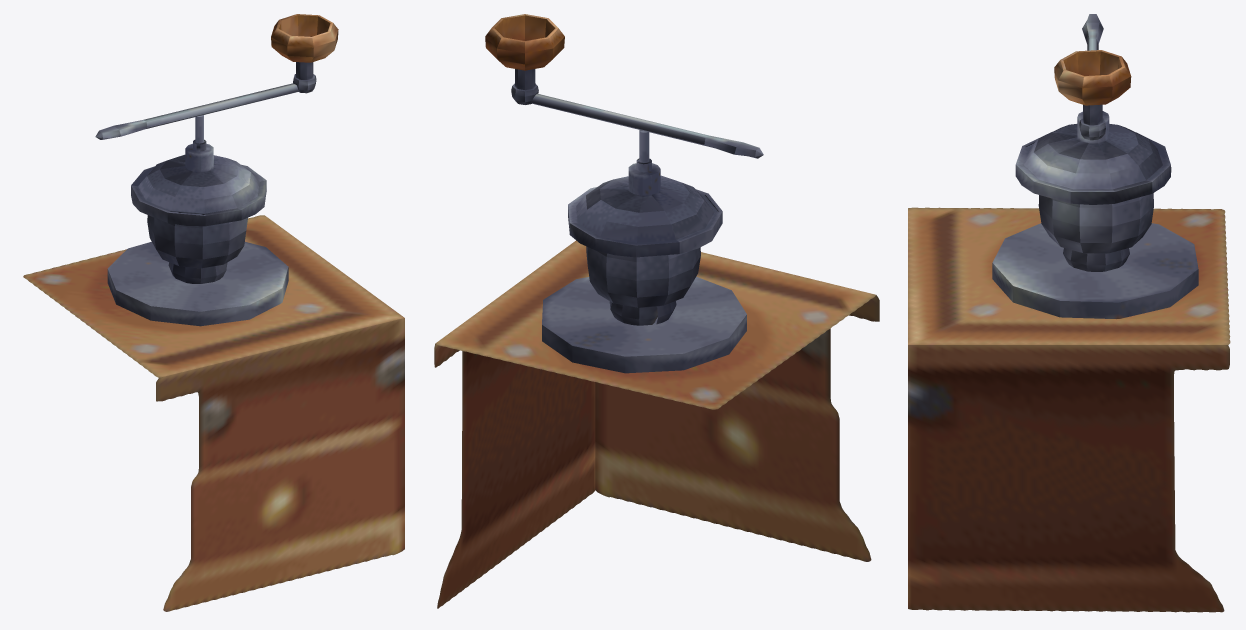
File: K1_oldmachine1.FBX
The picture shows the model from 3 angles, left to right: view 1: azimuth 30°, elevation 25°; view 2: azimuth 150°, elevation 25°; view 3: azimuth 270°, elevation 25°; orthographic projection. The views are drawn at different scales.
Visible parts, largest first — view 1: cofe04, cofe03, cofe01, cofe02, cofe07, cofe06; view 2: cofe04, cofe03, cofe01, cofe02, cofe07, cofe06; view 3: cofe04, cofe03, cofe01, cofe02, cofe07, cofe06.
Boxes of the visible parts, <box> form: cofe04: <box>23,215,404,611</box>; cofe03: <box>107,241,288,326</box>; cofe01: <box>131,115,266,226</box>; cofe02: <box>147,215,247,283</box>; cofe07: <box>271,14,338,93</box>; cofe06: <box>95,83,298,139</box>; cofe04: <box>434,240,879,608</box>; cofe03: <box>542,276,746,373</box>; cofe01: <box>568,130,722,257</box>; cofe02: <box>586,246,700,325</box>; cofe07: <box>485,14,564,104</box>; cofe06: <box>530,93,763,158</box>; cofe04: <box>908,207,1230,612</box>; cofe03: <box>992,223,1198,318</box>; cofe01: <box>1015,111,1171,204</box>; cofe02: <box>1038,193,1153,271</box>; cofe07: <box>1054,50,1131,140</box>; cofe06: <box>1082,14,1103,50</box>.
Size of the model in its own units: 15.7 by 27.52 by 14.91.
